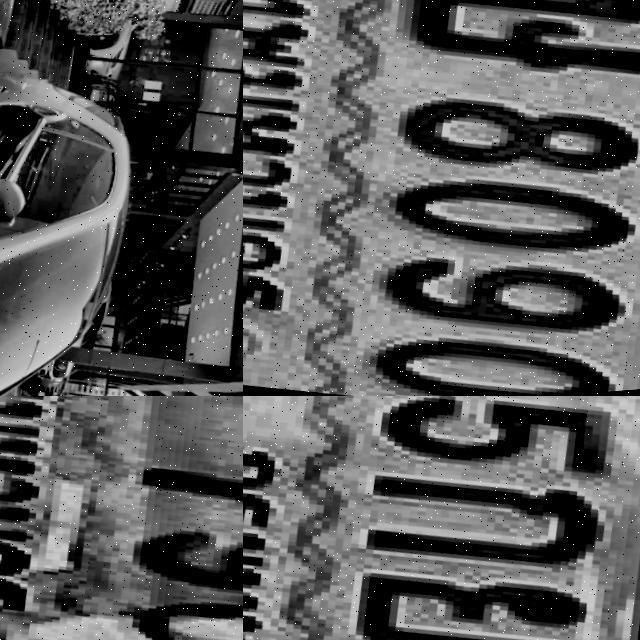license-plate: (243, 0, 640, 396), (243, 396, 640, 640), (0, 396, 243, 640)
